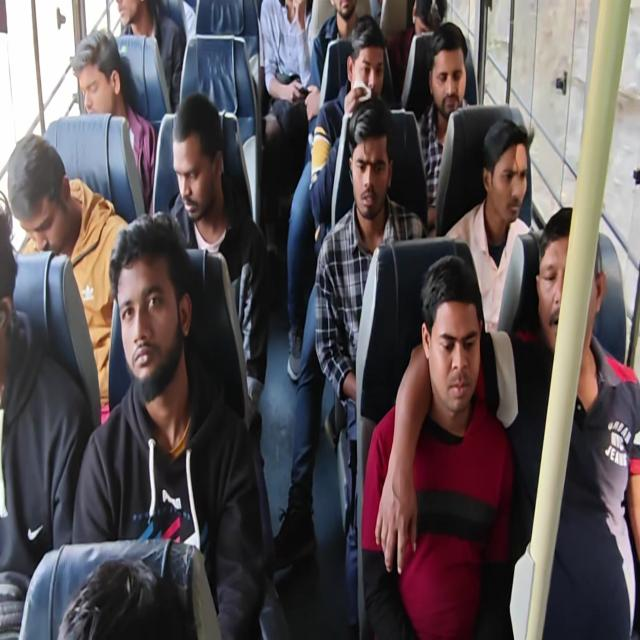person: (108, 210, 186, 388), (62, 554, 207, 640), (5, 139, 90, 262), (423, 266, 481, 416), (539, 238, 598, 367), (66, 37, 136, 120), (167, 104, 217, 216), (350, 118, 394, 218), (485, 142, 531, 232), (432, 44, 472, 128), (348, 32, 382, 106), (402, 0, 448, 47), (108, 0, 154, 39), (324, 0, 357, 22)
